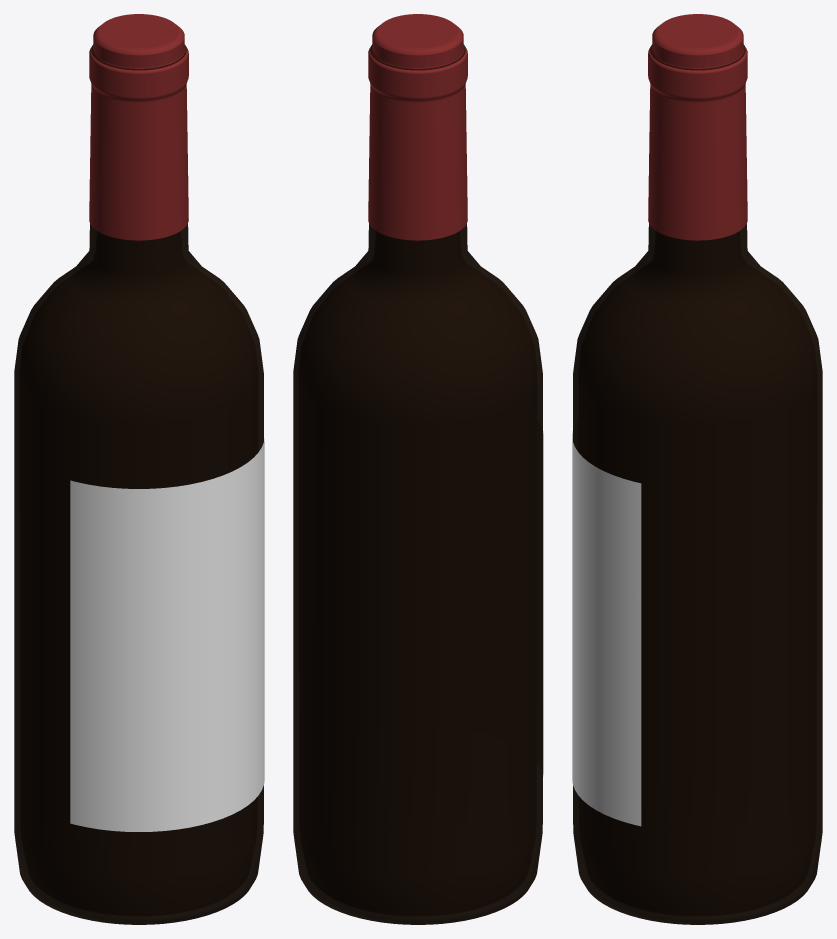
Rendered from bottle2.glb.
The picture shows the model from 3 angles, left to right: view 1: azimuth 30°, elevation 25°; view 2: azimuth 150°, elevation 25°; view 3: azimuth 270°, elevation 25°; orthographic projection.
Parts seen in each view (by area): view 1: Material_0, label, Material_2; view 2: Material_0, Material_2; view 3: Material_0, label, Material_2.
Boxes of the visible parts, x1,y1,x2,y2 form: Material_0: (14,44,263,924); label: (70,438,264,831); Material_2: (89,14,188,240); Material_0: (293,44,542,924); Material_2: (368,14,467,240); Material_0: (573,44,822,924); label: (572,431,641,826); Material_2: (648,14,747,240).
Bounding box in the file's own units: 0.7253 × 2.73 × 0.7281.
